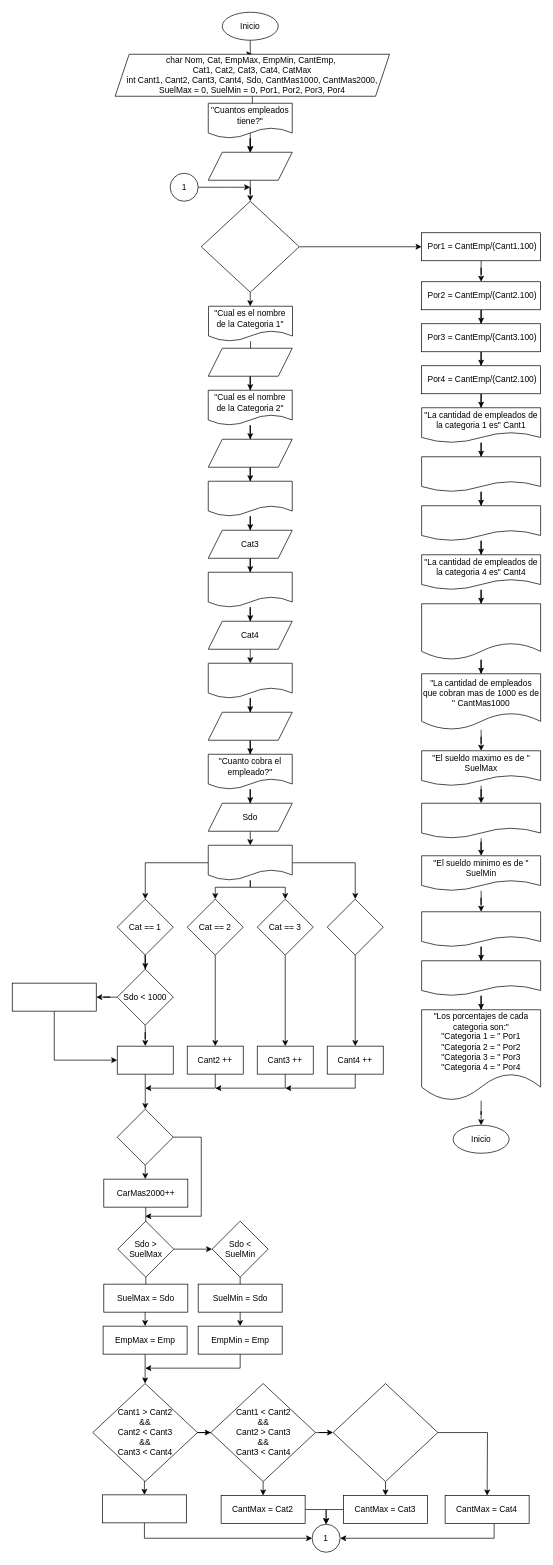
The diagram is 553 pixels wide and 1565 high, and some of its shapes have lost their labels. The centre of each missing label's shape, as x and y in pixels:
"A que categoria pertenece?": pixel 250 862
"Cual es el nombre de la Categoria 3": pixel 250 498
"Cual es el nombre de la Categoria 4": pixel 250 589
"Este minimo pertenece a " EmpMin: pixel 481 929
"Este sueldo pertenece a " EmpMax: pixel 481 820
"Ingresa el nombre de un empleado": pixel 250 680
"La cantidad de empleados de la categoria 2 es" Cant2: pixel 481 474
"La cantidad de empleados de la categoria 3 es" Cant3: pixel 481 523
"La cantidad de empleados que cobran mas de 2000 es de " CantMas2000: pixel 481 631
"La categoria con mas empleados es " CatMax: pixel 481 978
Cant = 1 Cant <= CantEmp Cant++: pixel 250 246
Cant1 ++: pixel 145 1059
Cant1 < Cant2 && Cant2 < Cant3 && Cant3 > Cant4: pixel 385 1432
CantEmp: pixel 250 166
CantMax = Cat1: pixel 144 1508
CarMas1000++: pixel 54 996
Cat == 4: pixel 355 926
Cat1: pixel 250 362
Cat2: pixel 250 453
Nom: pixel 250 726
Sdo > 2000: pixel 145 1136
